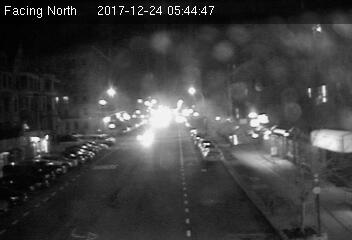car: (202, 147, 225, 164)
